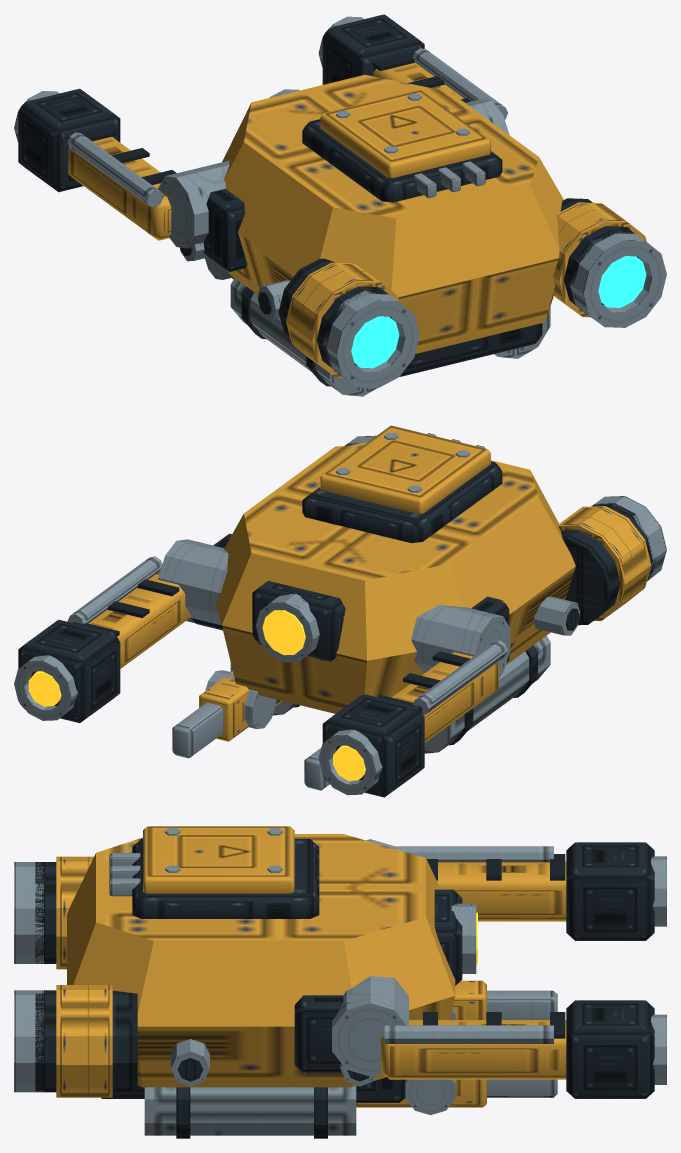
The model's file is mining-drone.glb.
The picture shows the model from 3 angles, top to bottom: view 1: azimuth 30°, elevation 25°; view 2: azimuth 150°, elevation 25°; view 3: azimuth 270°, elevation 25°; orthographic projection. The views are drawn at different scales.
Visible parts, largest first — view 1: mining_drone_hull.003; view 2: mining_drone_hull.003; view 3: mining_drone_hull.003.
Part boxes in pixels (left/top/right/bottom): mining_drone_hull.003: left=14, top=14, right=666, bottom=396; mining_drone_hull.003: left=14, top=425, right=666, bottom=797; mining_drone_hull.003: left=14, top=826, right=666, bottom=1138.
Bounding box in the file's own units: 1.3 × 0.766 × 1.85.
Materials: 3 (1 with a texture image).
